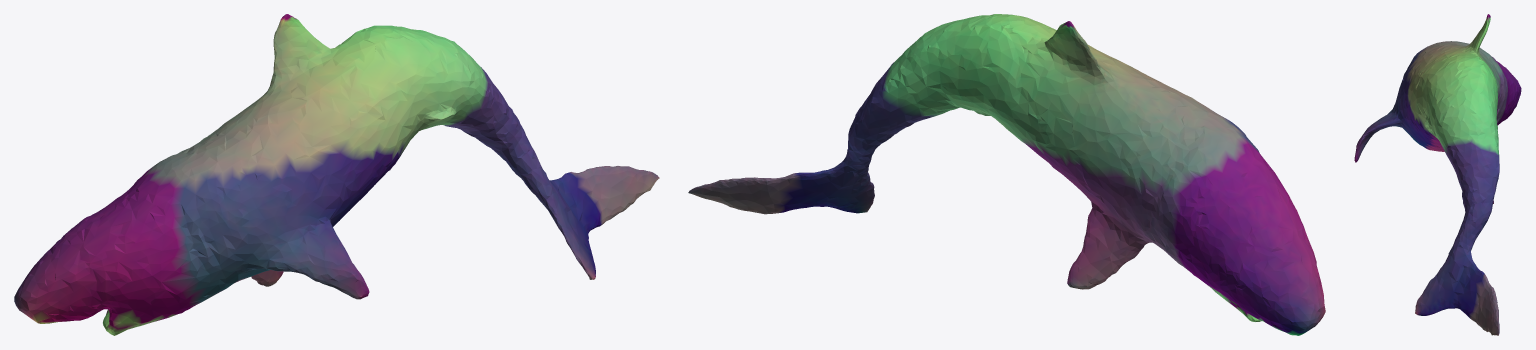
The model's file is shark-6.off.obj.
3 views of the same model, side by side, from view 1: azimuth 30°, elevation 25°; view 2: azimuth 150°, elevation 25°; view 3: azimuth 270°, elevation 25° (orthographic). The views are drawn at different scales.
Bounding box in the file's own units: 1.39 × 0.608 × 0.4375.
